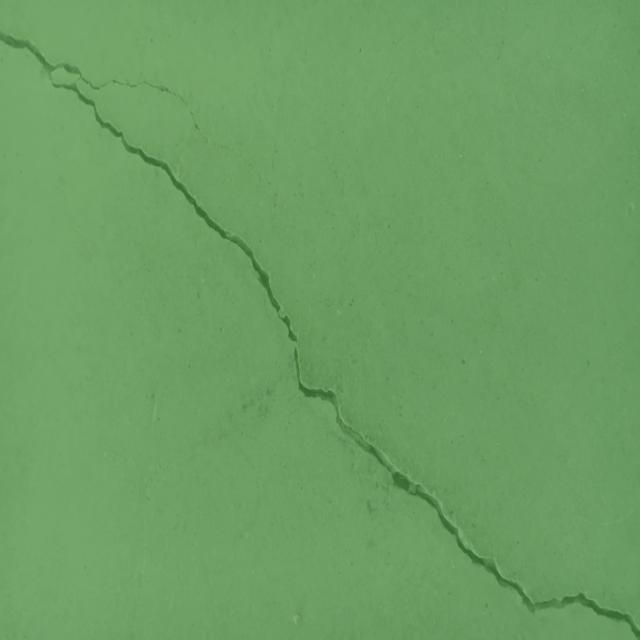crack: (293, 345, 640, 640), (0, 32, 298, 343)
